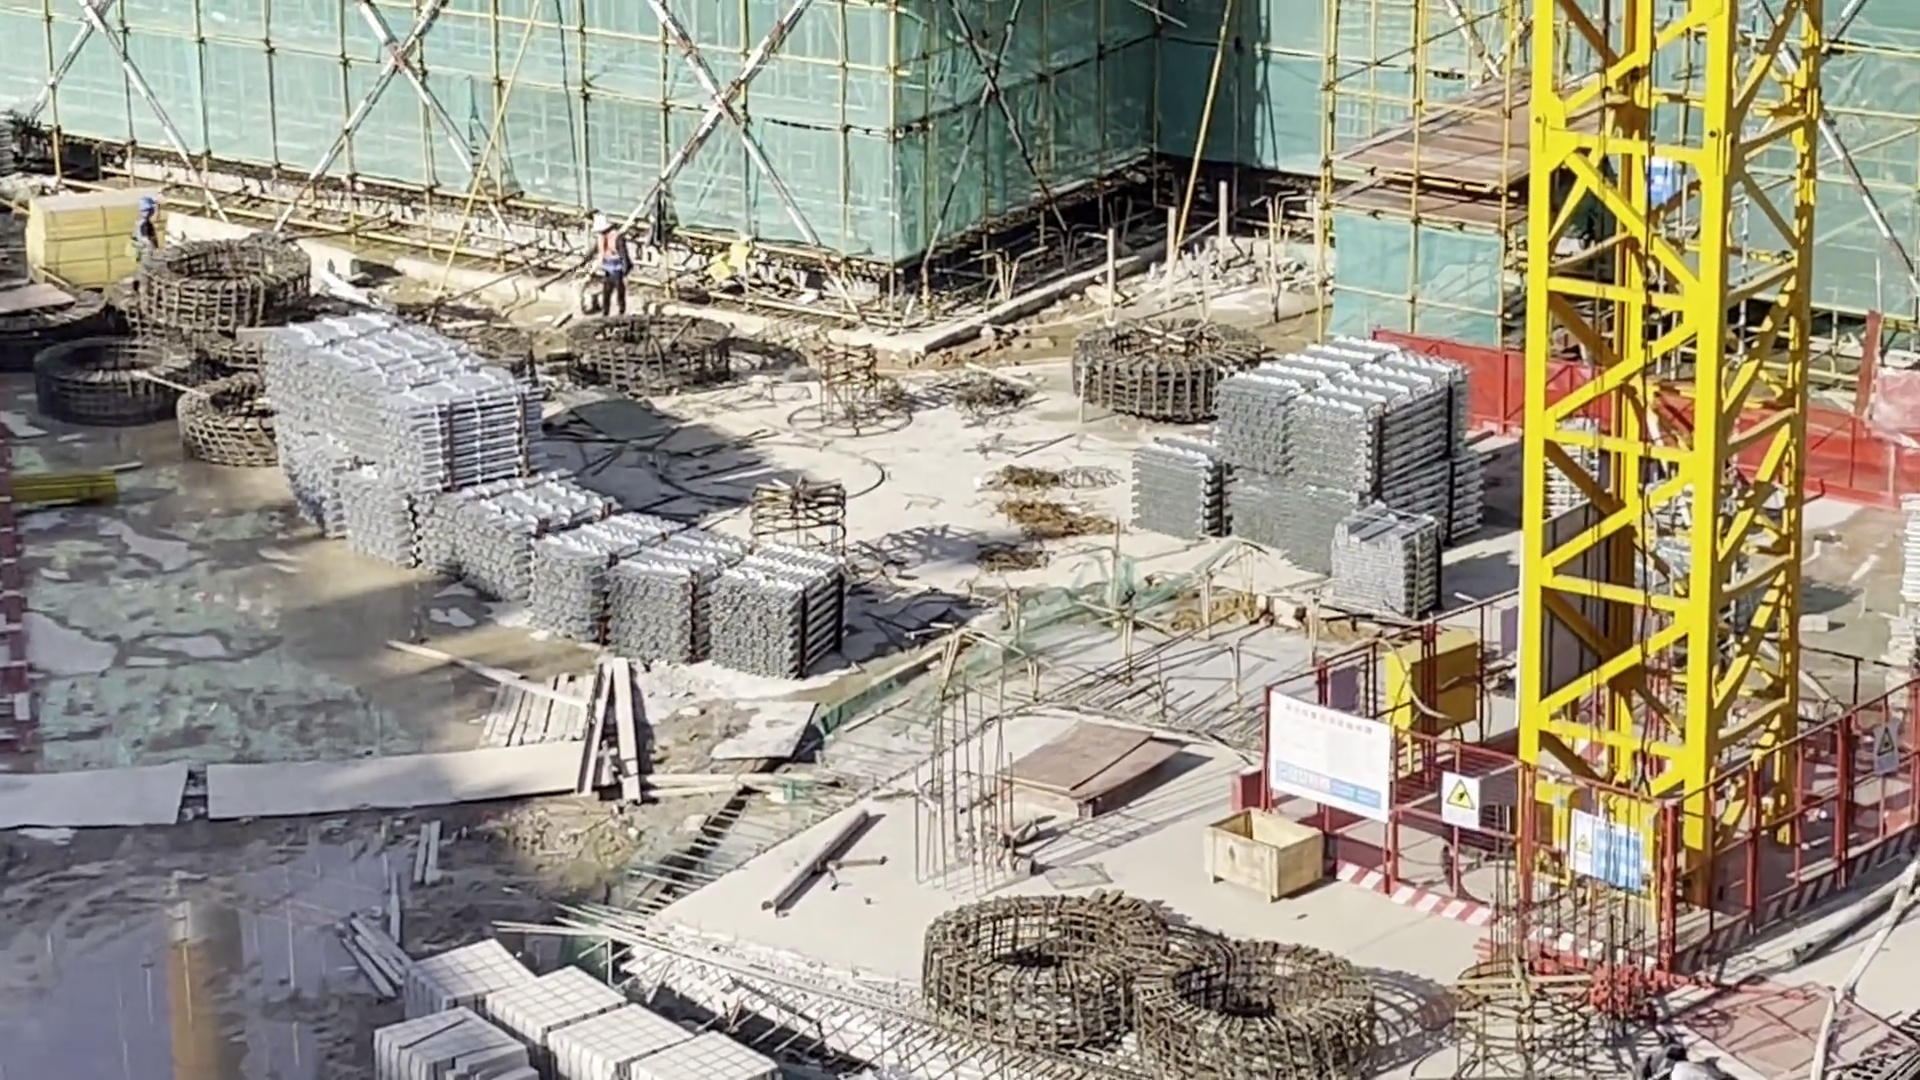board: (36, 182, 158, 289)
ebox: (1539, 779, 1671, 882), (1396, 626, 1479, 732)
fence: (1254, 702, 1636, 976), (1679, 691, 1919, 981), (1403, 349, 1529, 436), (1818, 404, 1920, 502)
helmet: (586, 207, 619, 229), (136, 202, 163, 212)
person: (588, 213, 641, 318), (136, 200, 164, 248)
scaffold: (259, 317, 483, 522), (1233, 362, 1441, 562), (724, 531, 828, 651), (1141, 412, 1229, 522), (453, 474, 553, 572), (1344, 517, 1424, 614), (641, 531, 698, 626), (548, 532, 618, 606)
vest: (587, 234, 632, 276), (136, 224, 159, 246)
